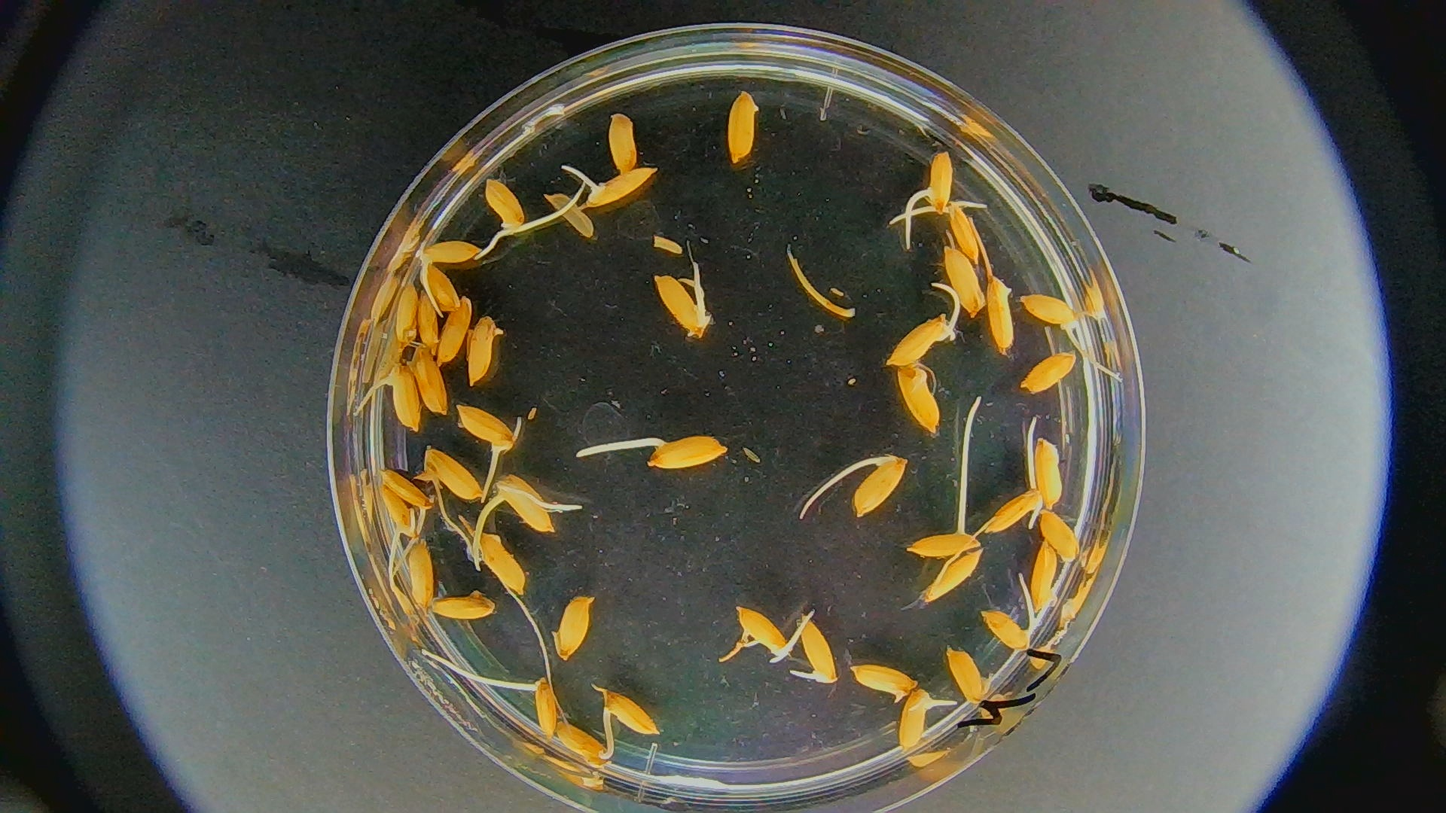no: (981, 262, 1023, 352), (944, 244, 990, 318), (462, 313, 504, 389), (374, 464, 438, 513), (849, 659, 917, 704), (548, 592, 594, 658), (944, 643, 988, 711), (407, 343, 447, 415), (438, 295, 472, 375), (1034, 510, 1084, 563), (551, 722, 612, 765), (725, 91, 761, 163), (602, 111, 642, 173), (1033, 435, 1066, 510), (1022, 349, 1075, 395), (407, 537, 440, 610), (484, 178, 527, 233), (1029, 544, 1060, 614), (392, 279, 419, 346), (434, 595, 496, 623), (423, 263, 459, 310), (416, 290, 441, 352)
yes: (891, 360, 944, 434), (630, 434, 728, 473), (654, 273, 712, 338), (850, 455, 909, 516), (939, 198, 990, 266), (472, 528, 524, 594), (496, 473, 552, 534), (731, 604, 791, 660), (580, 163, 654, 206), (978, 602, 1035, 657), (921, 550, 980, 602), (459, 405, 521, 454), (423, 451, 484, 500), (892, 317, 956, 363), (373, 465, 438, 510), (795, 617, 837, 686), (601, 689, 657, 738), (984, 486, 1042, 530), (895, 687, 932, 750), (1023, 289, 1078, 330), (376, 489, 418, 541), (907, 528, 978, 558), (388, 363, 421, 427), (529, 675, 562, 738), (414, 237, 479, 267), (923, 154, 955, 211)
